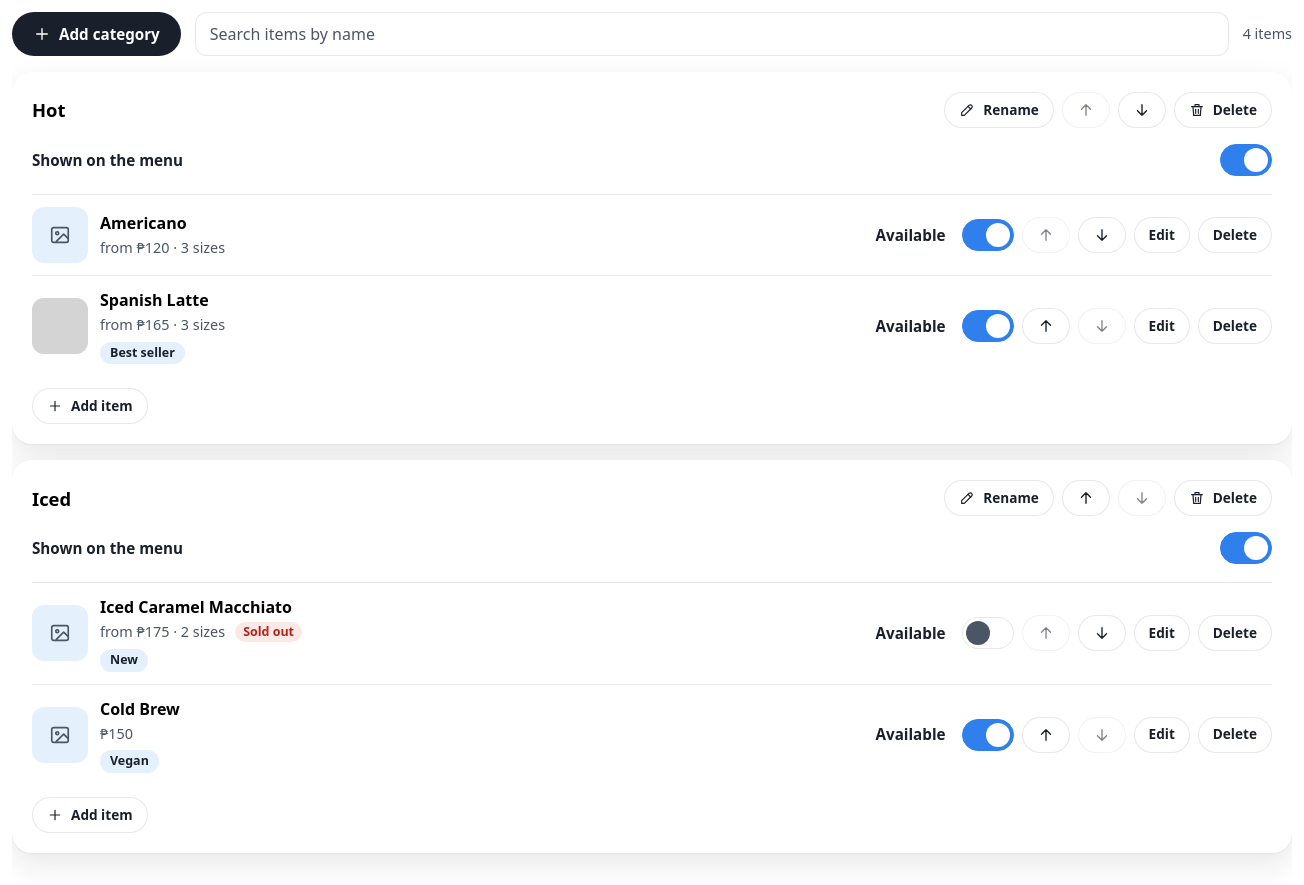
Two calls that send the whole item or category › keeps a renamed category named as typed when the owner flips its visibility switch at once
Step 1. Click the button "Rename" in the row of "Hot" → coordinates (999, 110), box [944, 92, 1054, 128]
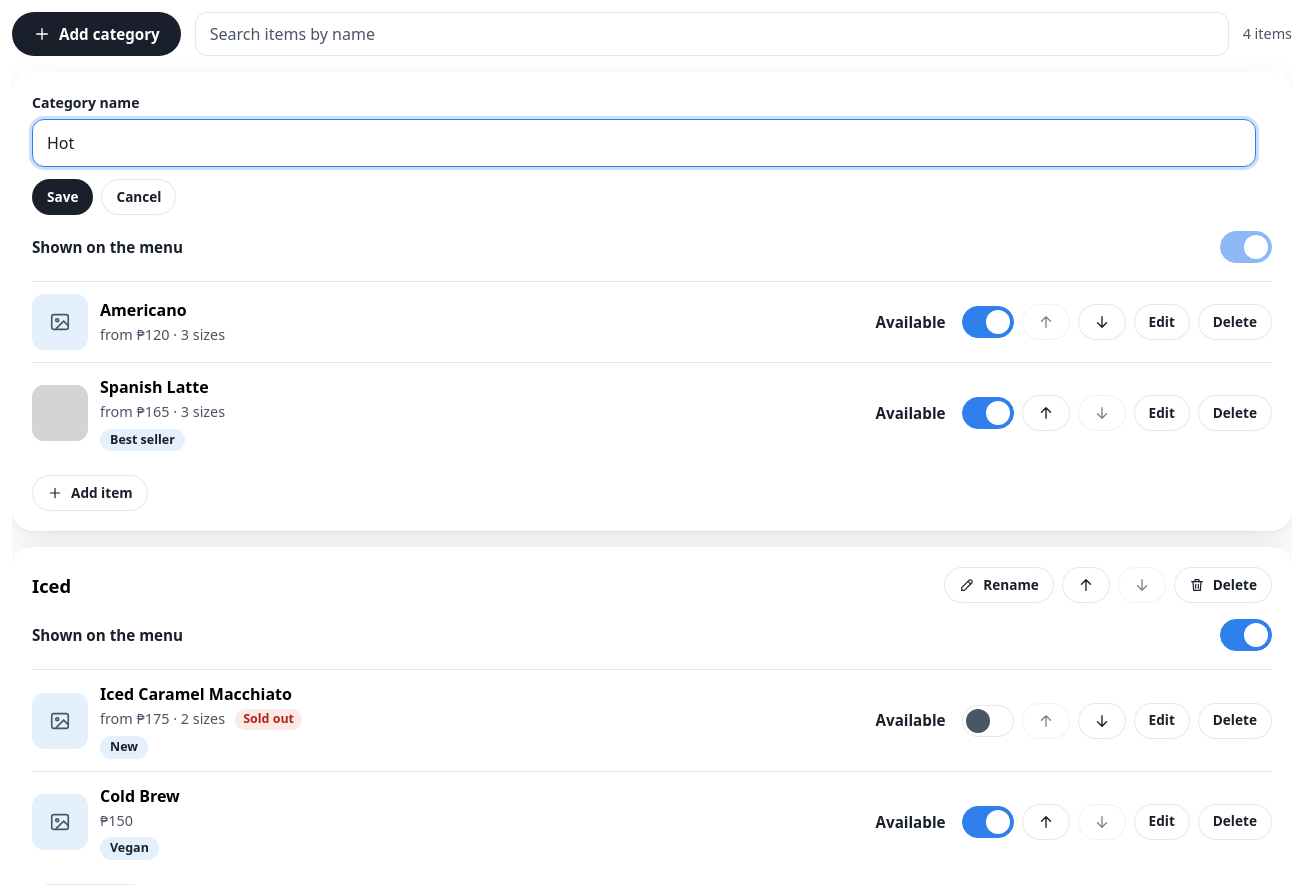
Step 2. Replace the text in the field labelled "Category name" with "Coffee" → coordinates (644, 143), box [32, 119, 1256, 167]
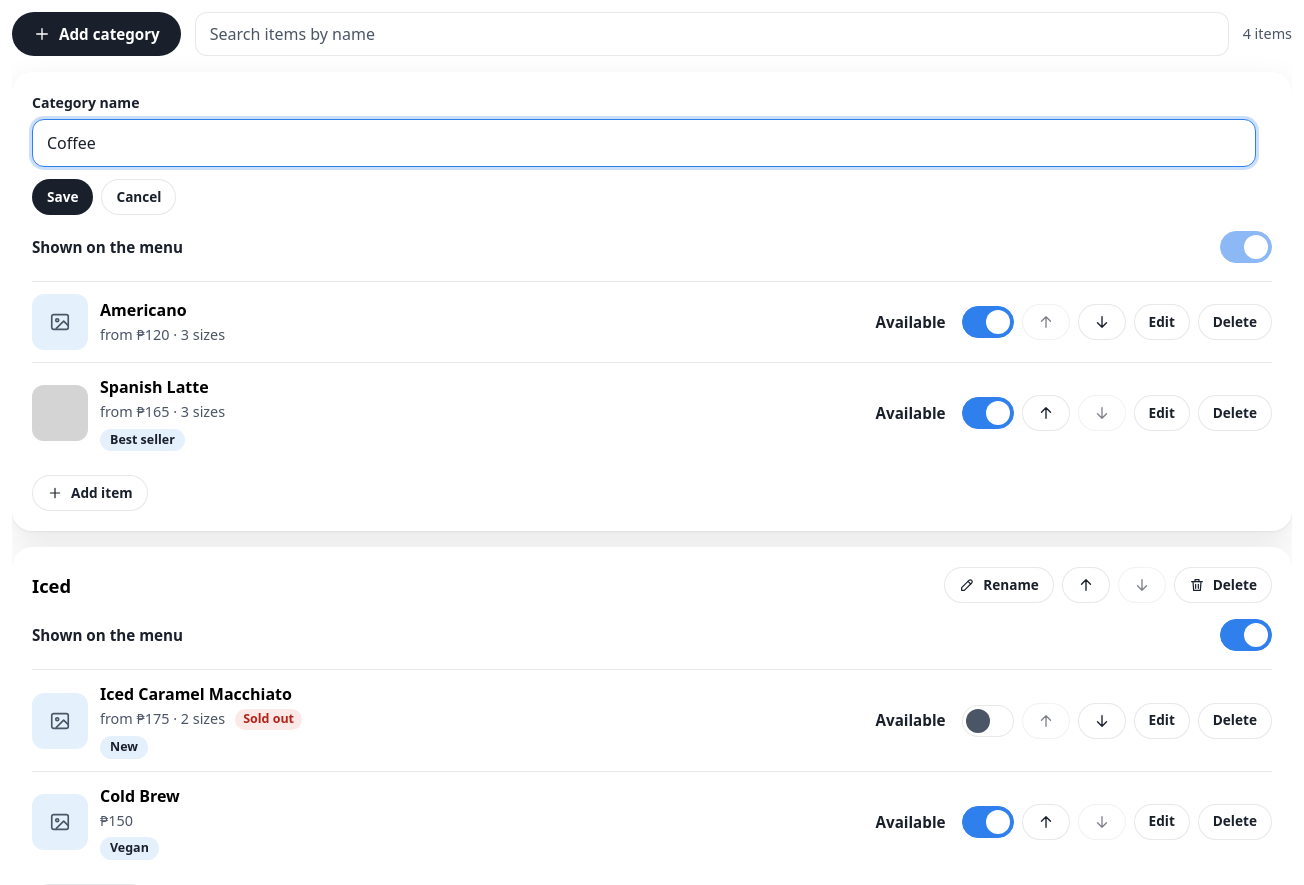
Step 3. Click the button "Save" → coordinates (63, 197), box [32, 179, 94, 215]
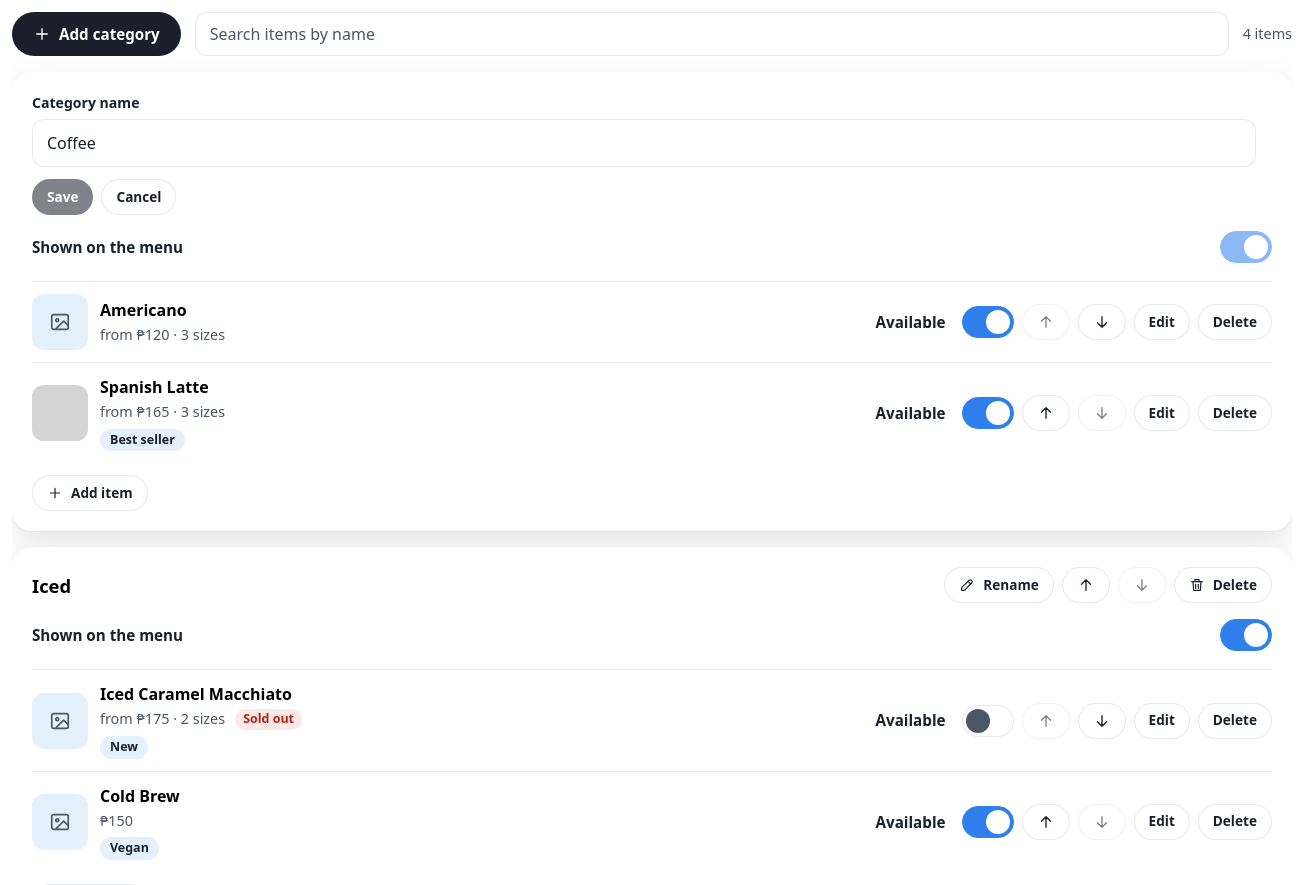
Step 4. Click the 1st switch → coordinates (1246, 247), box [1220, 225, 1272, 269]
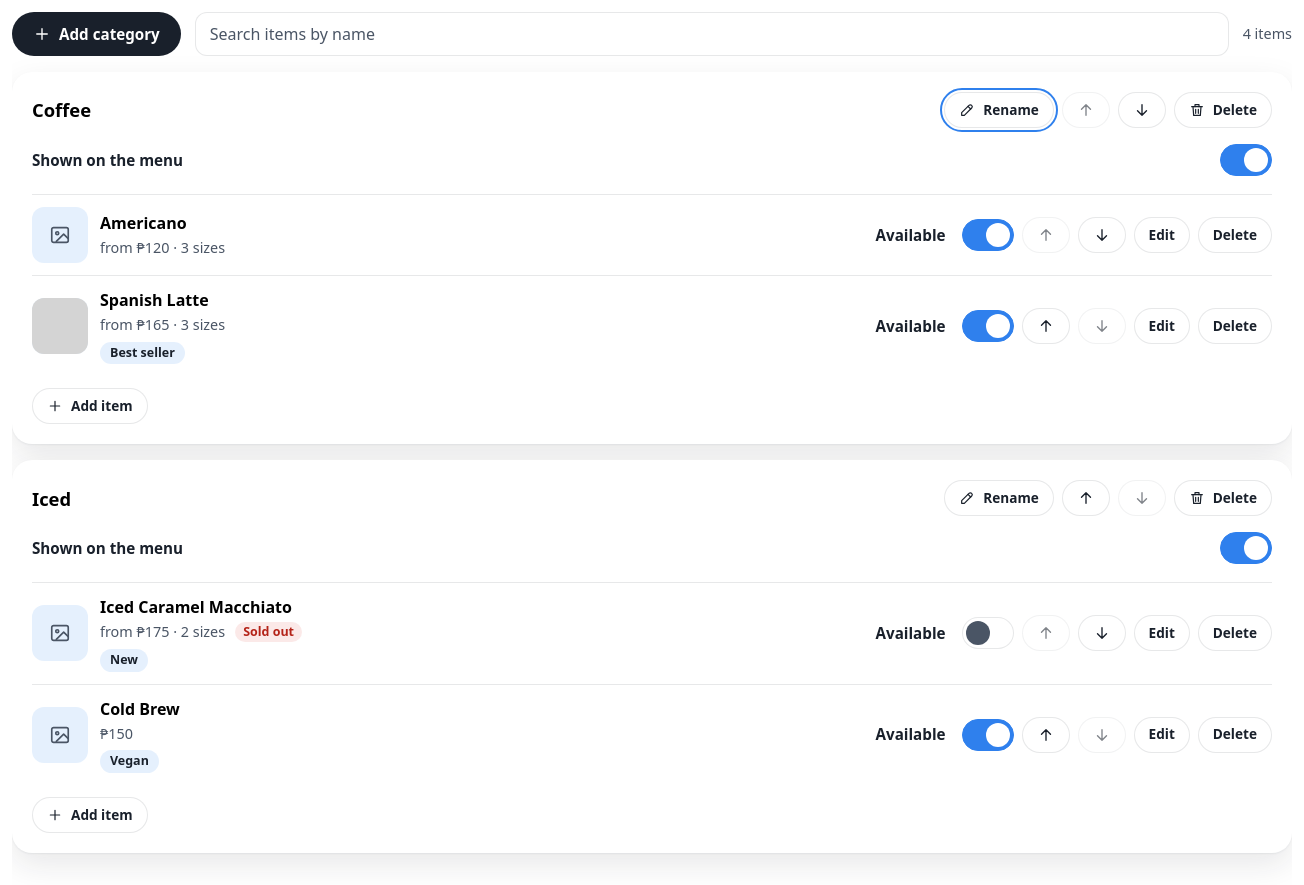
Check: the heading "Coffee" is shown, box [32, 97, 91, 122]
